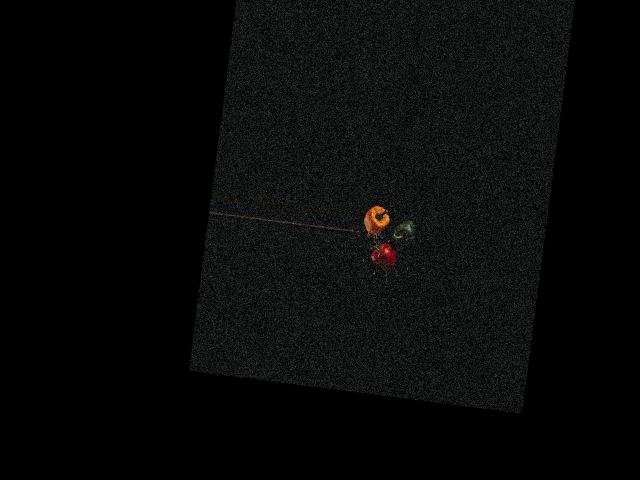bell_pepper: (363, 236, 403, 270)
